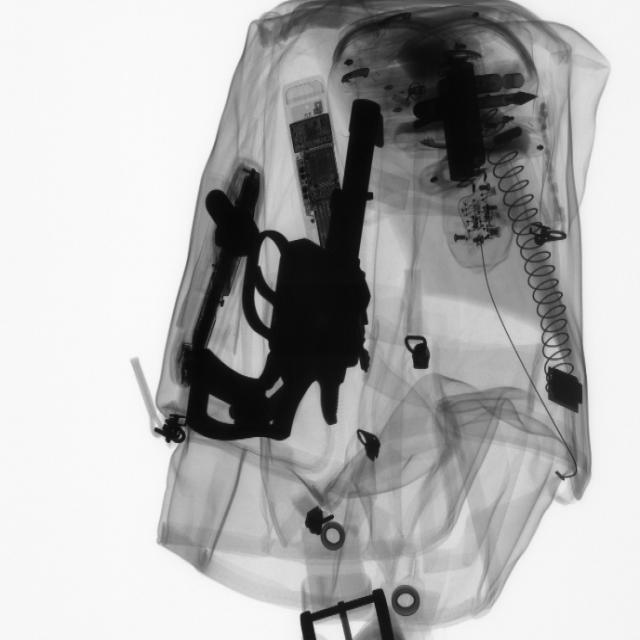GUN: (198, 114, 385, 449)
